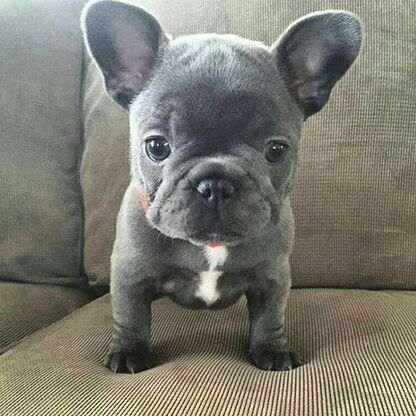bulldog: (77, 4, 360, 375)
